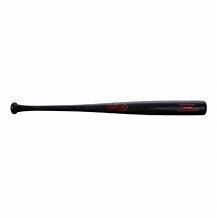bat: (9, 99, 208, 117)
